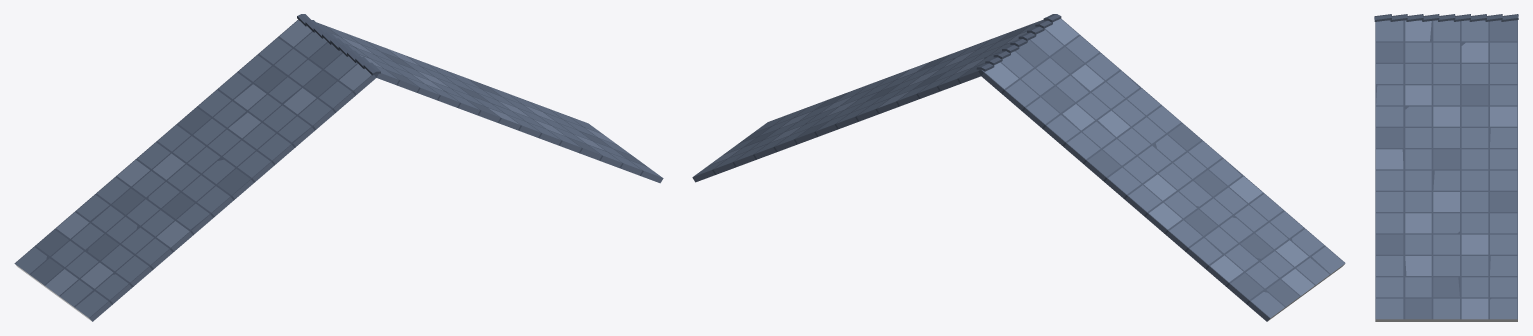
The model's file is Roof4_C7_01.fbx.
3 views of the same model, side by side, from view 1: azimuth 30°, elevation 25°; view 2: azimuth 150°, elevation 25°; view 3: azimuth 270°, elevation 25° (orthographic). The views are drawn at different scales.
Visible parts, largest first — view 1: Roof4_C7_01; view 2: Roof4_C7_01; view 3: Roof4_C7_01.
Boxes of the visible parts, <box> form: Roof4_C7_01: <box>14,14,663,321</box>; Roof4_C7_01: <box>692,14,1345,321</box>; Roof4_C7_01: <box>1374,14,1518,321</box>.
Size of the model in its own units: 1105 by 338 by 252.
